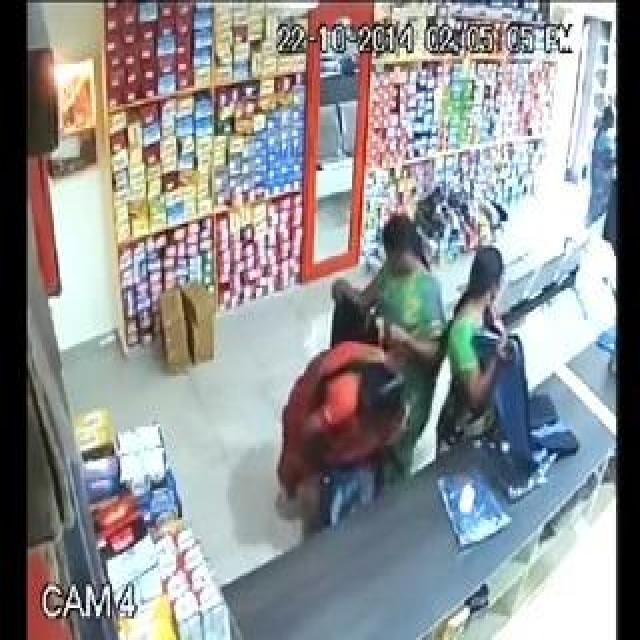Shoplifting: (238, 316, 438, 552)
